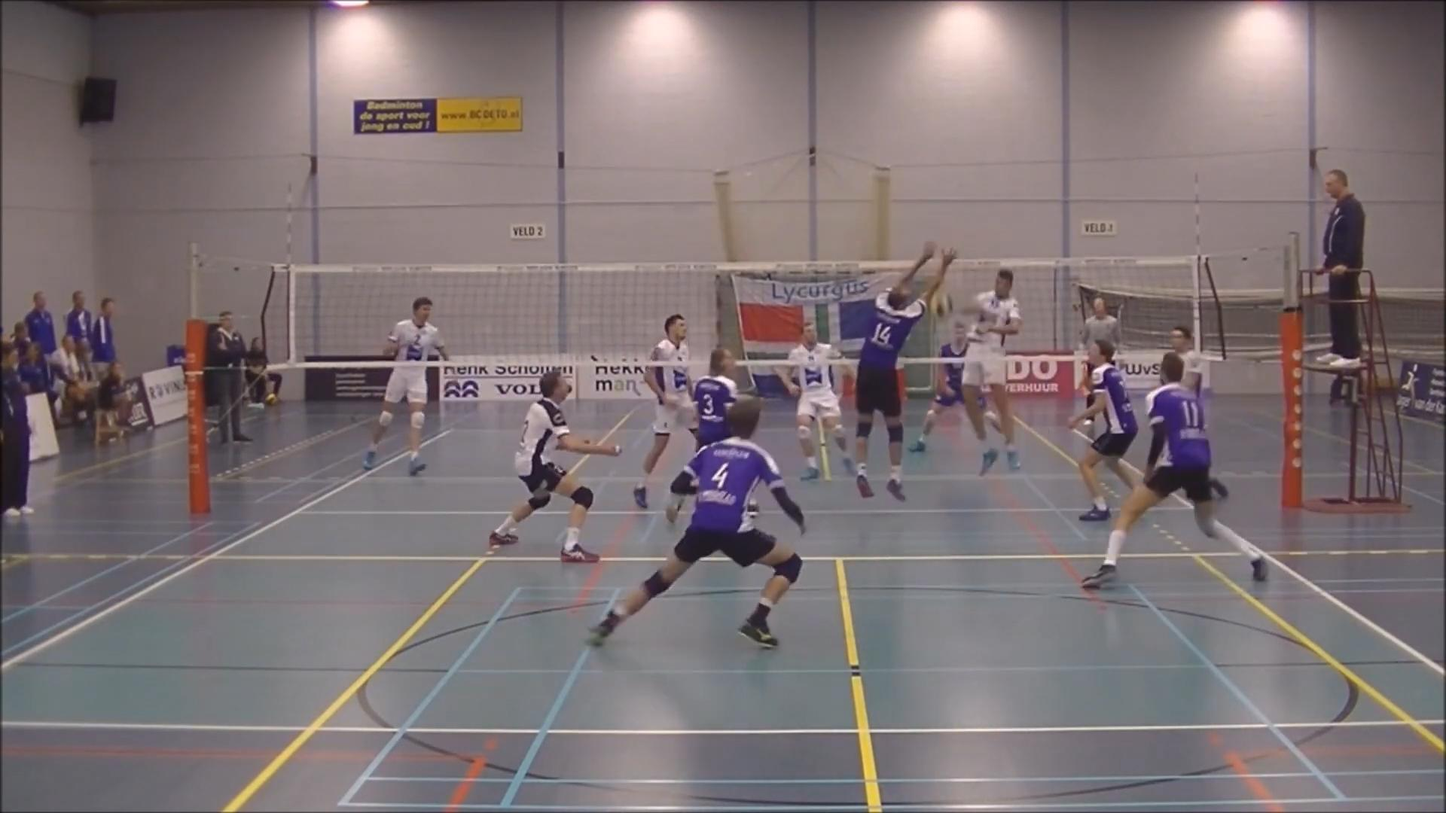Attack: (944, 238, 1034, 484)
Block: (837, 238, 959, 501)
Player: (590, 399, 804, 647), (1082, 352, 1265, 588), (489, 370, 620, 562), (363, 297, 449, 475), (1068, 340, 1137, 521), (777, 321, 852, 480), (633, 314, 694, 508), (909, 323, 968, 452), (692, 348, 737, 447), (1170, 326, 1204, 397)
ball: (928, 289, 958, 321)
